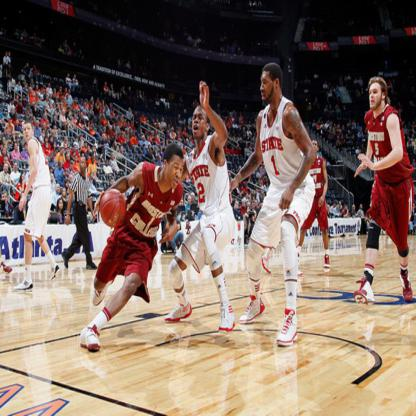face: (167, 154, 185, 190), (193, 107, 207, 138), (260, 73, 274, 102), (370, 83, 382, 109), (24, 124, 33, 140), (312, 141, 318, 155), (81, 159, 87, 171), (3, 195, 8, 206), (60, 200, 64, 209), (5, 164, 9, 172), (57, 185, 60, 192), (63, 189, 66, 196), (67, 181, 70, 188), (15, 165, 18, 171), (5, 158, 8, 164), (7, 130, 10, 136), (26, 144, 29, 150), (52, 175, 55, 181), (189, 198, 192, 204), (192, 194, 195, 200), (182, 201, 185, 207), (237, 202, 240, 208), (4, 149, 7, 154), (17, 137, 20, 142), (11, 125, 14, 130), (2, 118, 5, 123), (47, 144, 50, 149), (48, 123, 51, 128), (62, 149, 65, 154), (68, 155, 71, 160), (75, 157, 78, 162), (50, 168, 53, 173), (51, 155, 54, 160), (66, 171, 69, 176), (111, 180, 114, 185), (252, 216, 255, 221), (248, 207, 250, 214), (6, 124, 9, 128), (61, 164, 63, 170), (81, 112, 83, 118), (55, 127, 57, 133), (89, 146, 91, 152), (255, 212, 257, 218), (249, 218, 251, 224), (23, 175, 25, 180), (16, 144, 18, 149), (4, 138, 6, 143), (12, 108, 14, 113), (37, 122, 39, 127), (44, 131, 46, 136), (45, 126, 47, 131), (55, 116, 57, 121), (53, 130, 55, 135), (54, 143, 56, 148), (64, 172, 66, 177), (81, 136, 83, 141), (47, 96, 49, 101), (94, 152, 96, 157), (107, 160, 109, 165), (99, 160, 101, 165), (112, 155, 114, 160), (122, 147, 124, 152), (256, 202, 258, 207), (59, 129, 62, 132), (74, 153, 77, 156), (17, 120, 19, 124), (10, 118, 12, 122), (34, 117, 36, 121), (46, 138, 48, 142), (51, 138, 53, 142), (75, 146, 77, 150), (68, 148, 70, 152), (71, 178, 73, 182), (77, 138, 79, 142), (63, 111, 65, 115), (37, 86, 39, 90), (26, 85, 28, 89), (86, 142, 88, 146), (94, 145, 96, 149), (94, 172, 96, 176), (108, 136, 110, 140), (160, 157, 162, 161), (150, 146, 152, 150), (66, 140, 68, 143), (29, 105, 31, 108), (30, 89, 32, 92), (83, 153, 85, 156), (144, 147, 146, 150), (3, 93, 4, 98), (24, 97, 25, 102), (51, 102, 52, 107), (117, 146, 118, 151), (54, 103, 55, 107), (58, 106, 60, 108), (11, 95, 12, 98), (35, 106, 36, 109), (46, 108, 47, 111), (50, 84, 51, 87), (162, 148, 163, 151)
